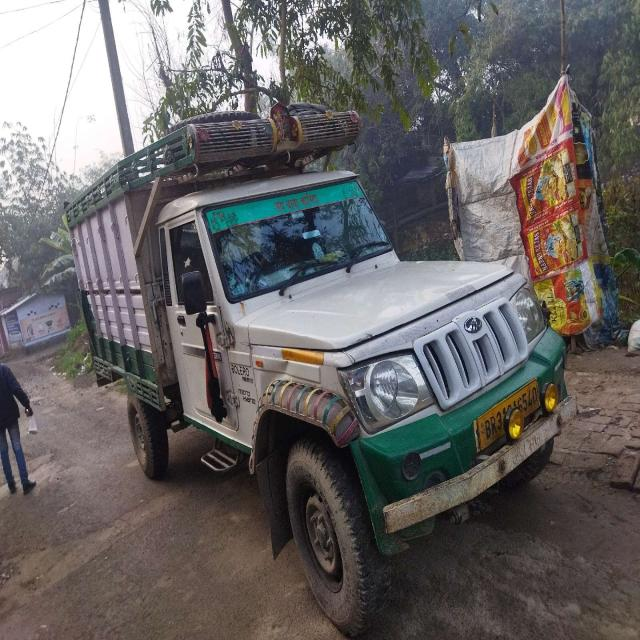light_vehicle: (150, 172, 572, 491)
